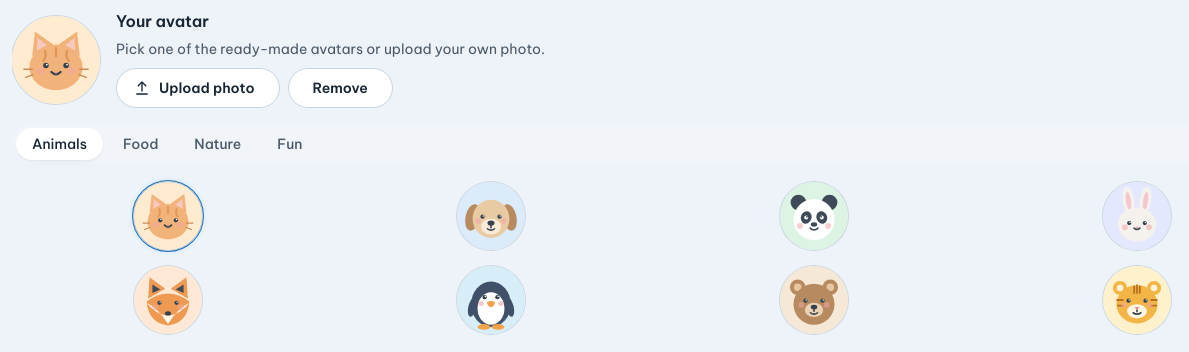
Test: AvatarPicker › changes the tab
What coordinates should you click on to do the following:
click the button "Fun"
I would click on:
 (290, 144)
Its box is [261,128,318,160].
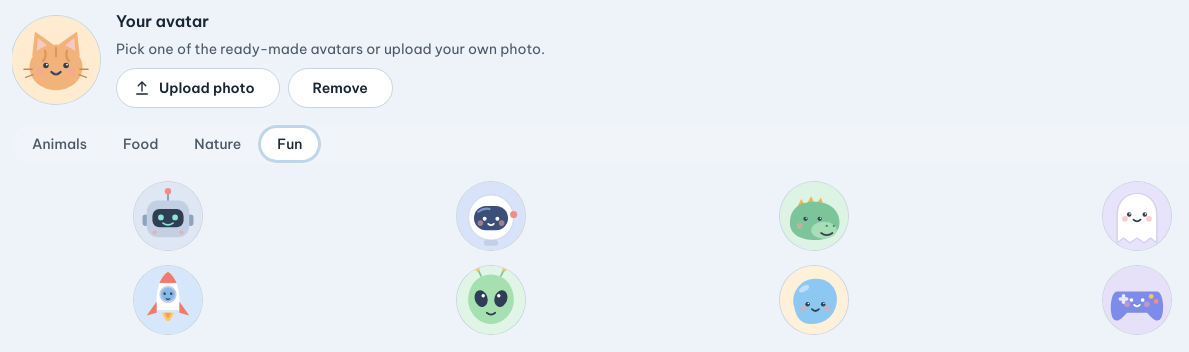
Now the radio button named "Robot" is shown, box [132,180,204,252]
Now the radio button labelled "Cat" is gone
